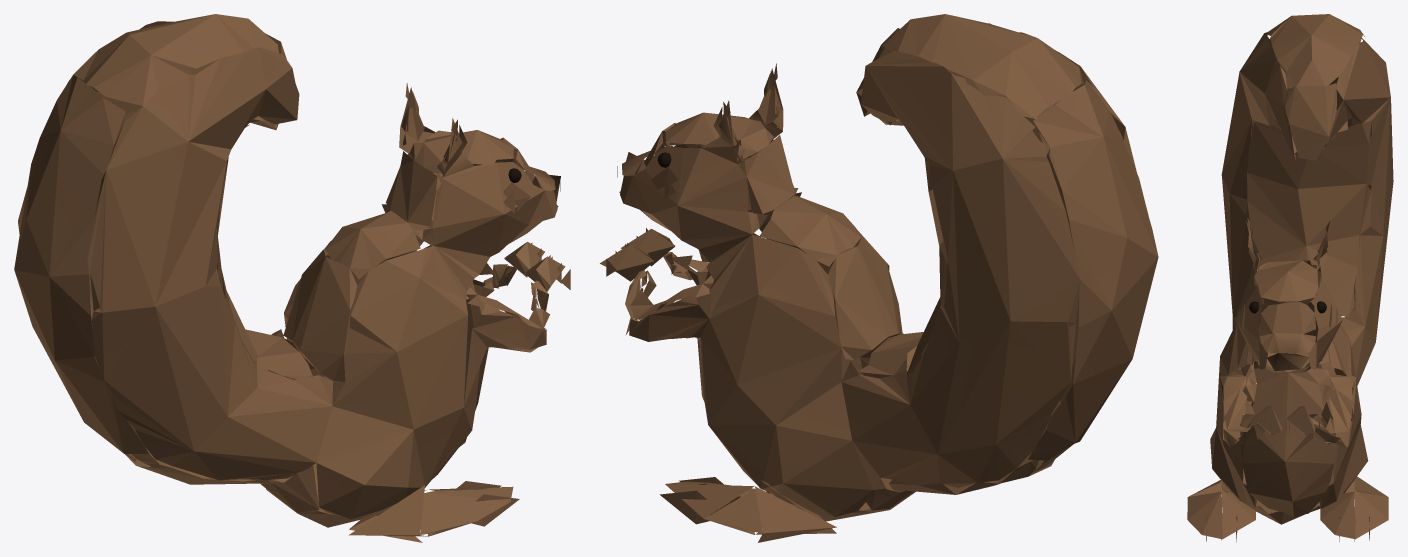
The model's file is campus-squirrel-fur-v3-2026-11-10.glb.
3 renders of one model, left to right at view 1: azimuth 30°, elevation 25°; view 2: azimuth 150°, elevation 25°; view 3: azimuth 270°, elevation 25°, orthographic. The views are drawn at different scales.
Visible parts, largest first — view 1: Campus_squirrel_-_CC0_source; view 2: Campus_squirrel_-_CC0_source; view 3: Campus_squirrel_-_CC0_source.
Boxes of the visible parts, <box> form: Campus_squirrel_-_CC0_source: <box>14,14,570,542</box>; Campus_squirrel_-_CC0_source: <box>600,14,1158,542</box>; Campus_squirrel_-_CC0_source: <box>1187,14,1393,542</box>.
Size of the model in its own units: 0.55 by 0.5358 by 0.2304.
